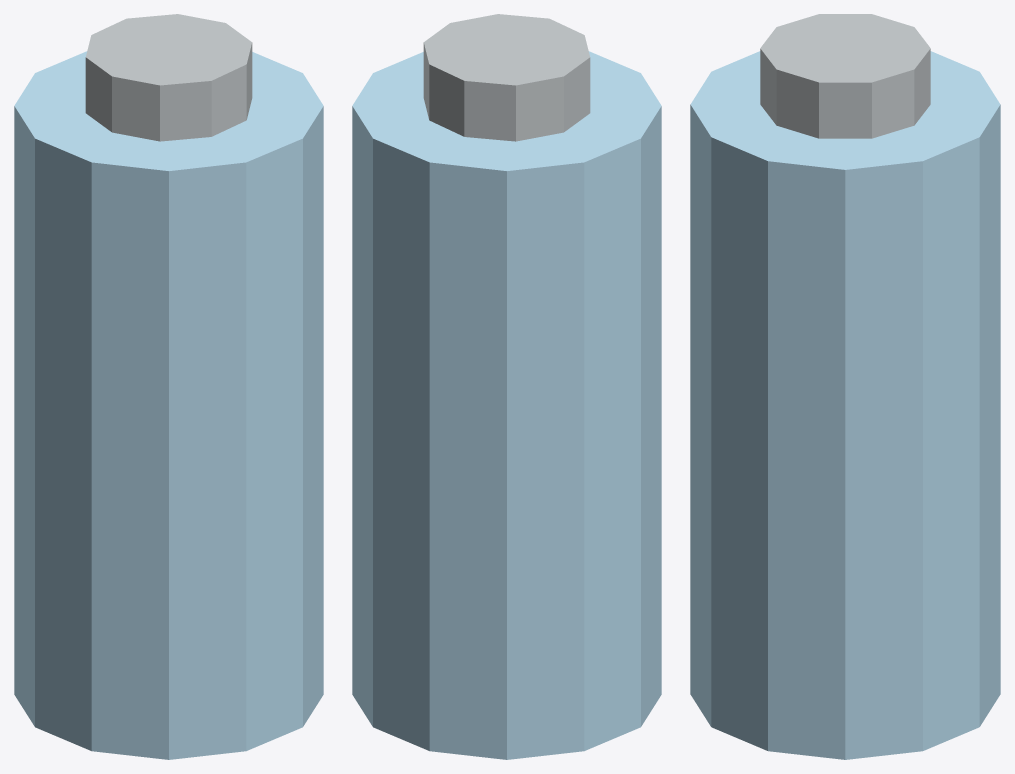
File: product_water.glb
3 renders of one model, left to right at view 1: azimuth 30°, elevation 25°; view 2: azimuth 150°, elevation 25°; view 3: azimuth 270°, elevation 25°, orthographic.
Visible parts, largest first — view 1: body.004, cap.001; view 2: body.004, cap.001; view 3: body.004, cap.001.
Part boxes in pixels (bbox=[...]): body.004: bbox=[14, 51, 323, 759]; cap.001: bbox=[85, 14, 252, 141]; body.004: bbox=[352, 51, 661, 759]; cap.001: bbox=[423, 14, 590, 141]; body.004: bbox=[690, 51, 1000, 759]; cap.001: bbox=[760, 14, 930, 138].
Size of the model in its own units: 0.2 by 0.46 by 0.2.
